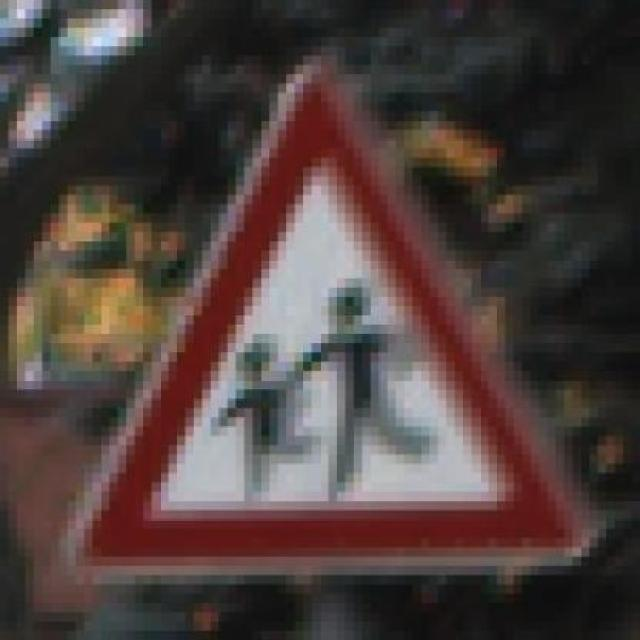Beware of children: (50, 46, 607, 594)
